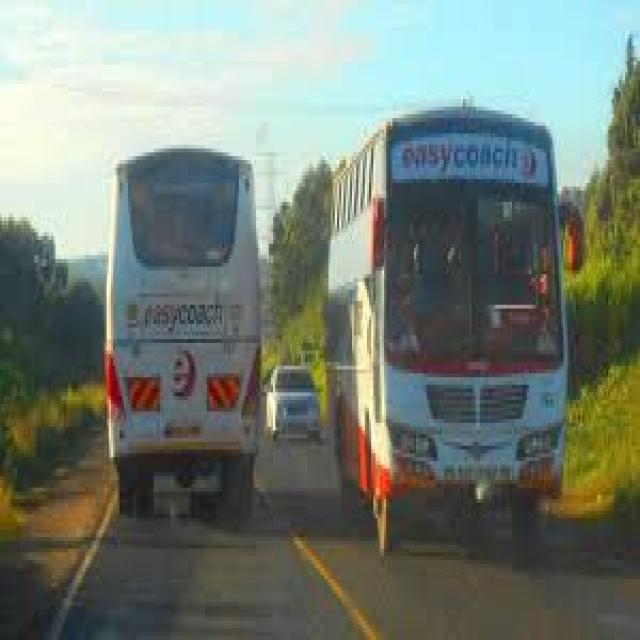bus: (318, 78, 634, 613), (73, 132, 282, 553)
